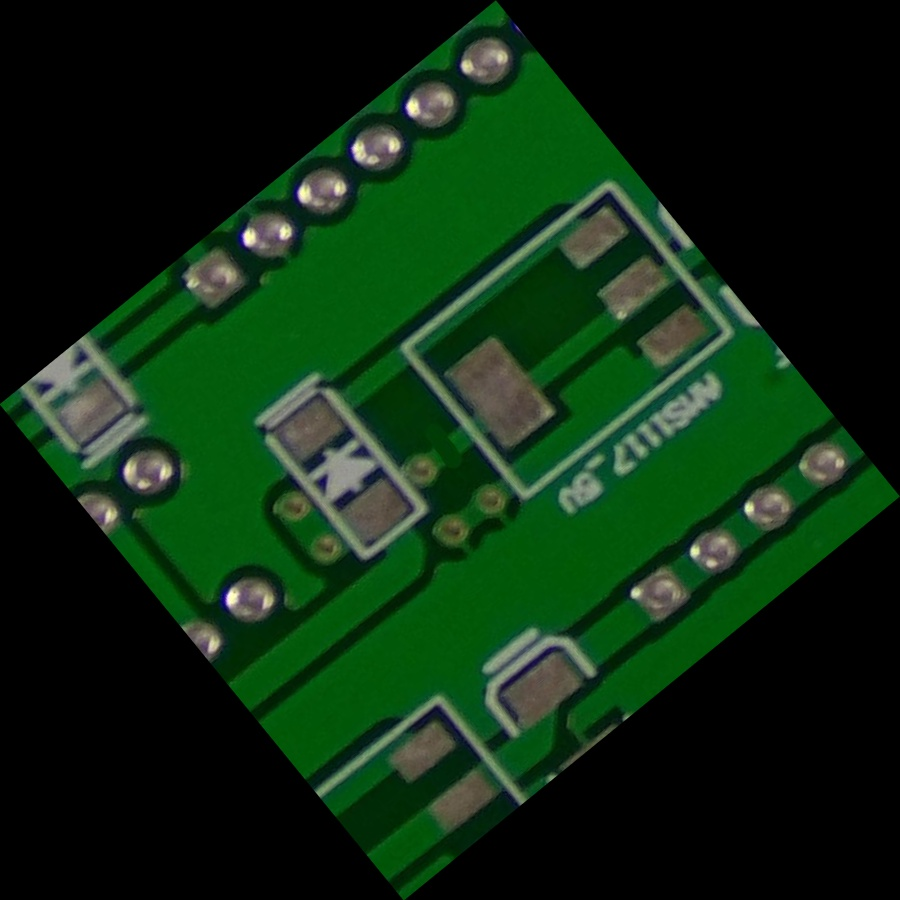open_circuit: (418, 417, 483, 484)
